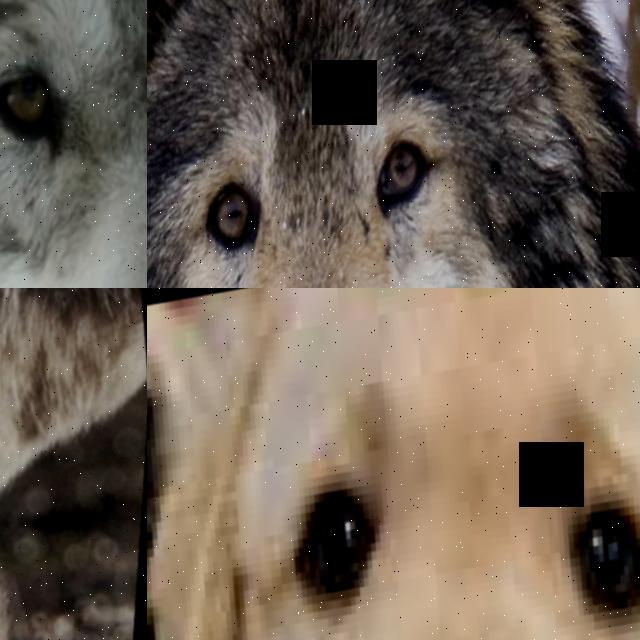dog: (147, 288, 640, 640), (147, 288, 415, 640)
wolf: (147, 0, 640, 288), (0, 288, 147, 640), (0, 0, 147, 288)
